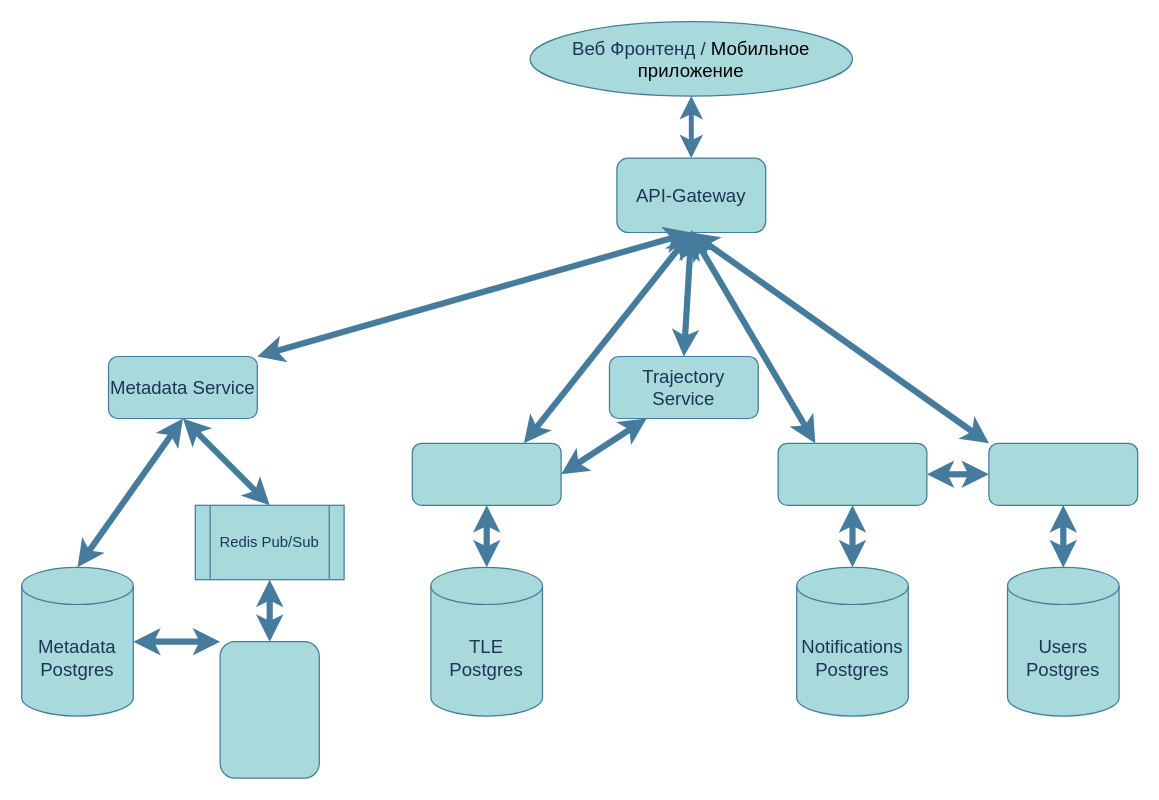
Some shapes in this 1159 by 800 pixel diagram are drawn without their labels. Each missing label, with the centre of its shape:
Metadata Service Aggregation Worker: the point at 269,709
Notification Service: the point at 852,473
TLE Service: the point at 486,473
User Service: the point at 1063,473
